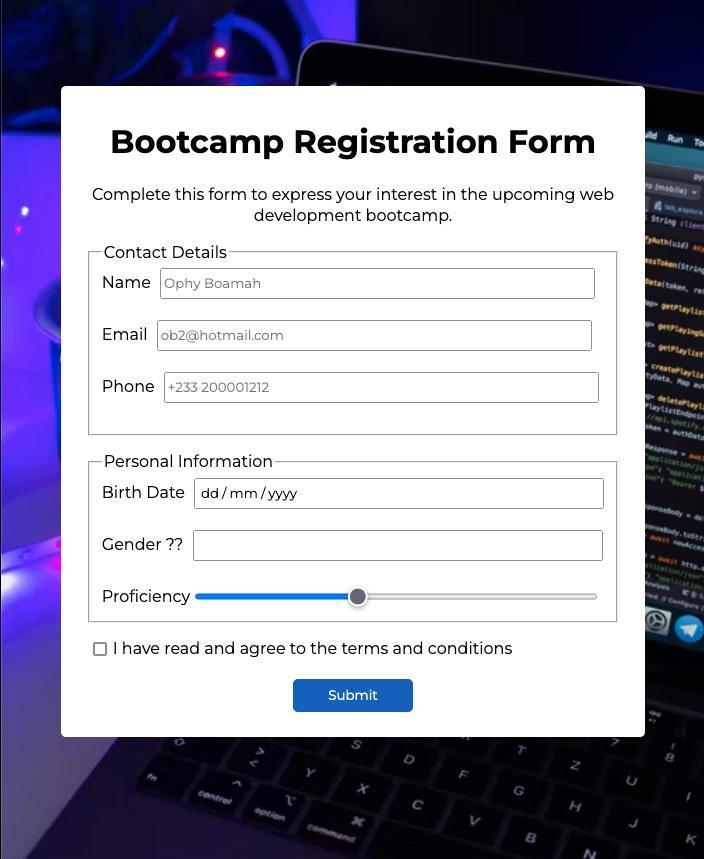button: (296, 681, 414, 713)
checkbox: (93, 642, 110, 657)
input: (161, 268, 596, 302), (166, 373, 601, 403), (196, 478, 603, 510), (194, 532, 603, 562), (158, 322, 593, 350)
label: (112, 639, 517, 660), (102, 483, 189, 504), (102, 537, 185, 557), (104, 590, 192, 608), (102, 375, 157, 400), (99, 321, 150, 344), (99, 272, 155, 292)
slider: (197, 583, 607, 613)
